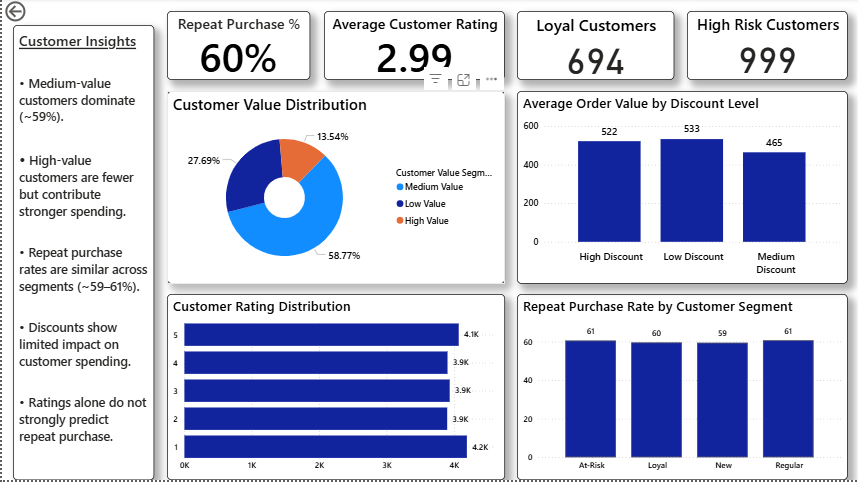

Layout of this report page (visuals, bound fields, positions):
{"tool":"powerbi","page":{"name":"Customer Insights","canvas":[1280,720],"ordinal":1},"visuals":[{"type":"card","title":"Repeat Purchase %","fields":{"Values":["customers.Repeat Purchase Rate"]},"box":[246.5,19.4,213.6,103.1],"z":0},{"type":"actionButton","box":[0,0,100,40],"z":1000},{"type":"card","title":"Average Customer Rating","fields":{"Values":["Avg(orders.customer_rating)"]},"box":[481,19.4,270.4,103.1],"z":2000},{"type":"card","title":"Loyal Customers","fields":{"Values":["CountNonNull(customers.customer_segment)"]},"box":[769.3,19.4,234.5,103.1],"z":3000},{"type":"card","title":"High Risk Customers","fields":{"Values":["Count(orders.customer_id)"]},"box":[1023.2,19.4,240.5,103.1],"z":4000},{"type":"donutChart","title":"Customer Value Distribution","fields":{"Category":["orders.Customer Value Segment"],"Y":["Count(orders.customer_id)"]},"box":[246.5,138.9,504.9,288.3],"z":5000},{"type":"clusteredColumnChart","title":"Repeat Purchase Rate by Customer Segment","fields":{"Category":["customers.customer_segment"],"Y":["orders.Repeat Purchase %"]},"box":[769.3,442.2,494.4,277.8],"z":6000},{"type":"clusteredColumnChart","title":"Average Order Value by Discount Level","fields":{"Category":["orders.Discount Level"],"Y":["Avg(orders.final_amount_paid)"]},"box":[769.3,138.9,494.4,288.3],"z":7000},{"type":"clusteredBarChart","title":"Customer Rating Distribution","fields":{"Category":["orders.customer_rating"],"Y":["CountNonNull(orders.order_id)"]},"box":[246.5,442.2,504.9,277.8],"z":8000},{"type":"textbox","box":[16.4,40.3,210.6,679.7],"z":9000}]}

Visuals, with their boxes on the page's 1280x720 design canvas (x1, y1, x2, y2). These are canvas units, not pixel positions in the 858x483 screenshot, which may show the page scaled, cropped or inside an application window:
"Repeat Purchase %" card: (x1=246, y1=19, x2=460, y2=122)
actionButton: (x1=0, y1=0, x2=100, y2=40)
"Average Customer Rating" card: (x1=481, y1=19, x2=751, y2=122)
"Loyal Customers" card: (x1=769, y1=19, x2=1004, y2=122)
"High Risk Customers" card: (x1=1023, y1=19, x2=1264, y2=122)
"Customer Value Distribution" donutChart: (x1=246, y1=139, x2=751, y2=427)
"Repeat Purchase Rate by Customer Segment" clusteredColumnChart: (x1=769, y1=442, x2=1264, y2=720)
"Average Order Value by Discount Level" clusteredColumnChart: (x1=769, y1=139, x2=1264, y2=427)
"Customer Rating Distribution" clusteredBarChart: (x1=246, y1=442, x2=751, y2=720)
textbox: (x1=16, y1=40, x2=227, y2=720)
